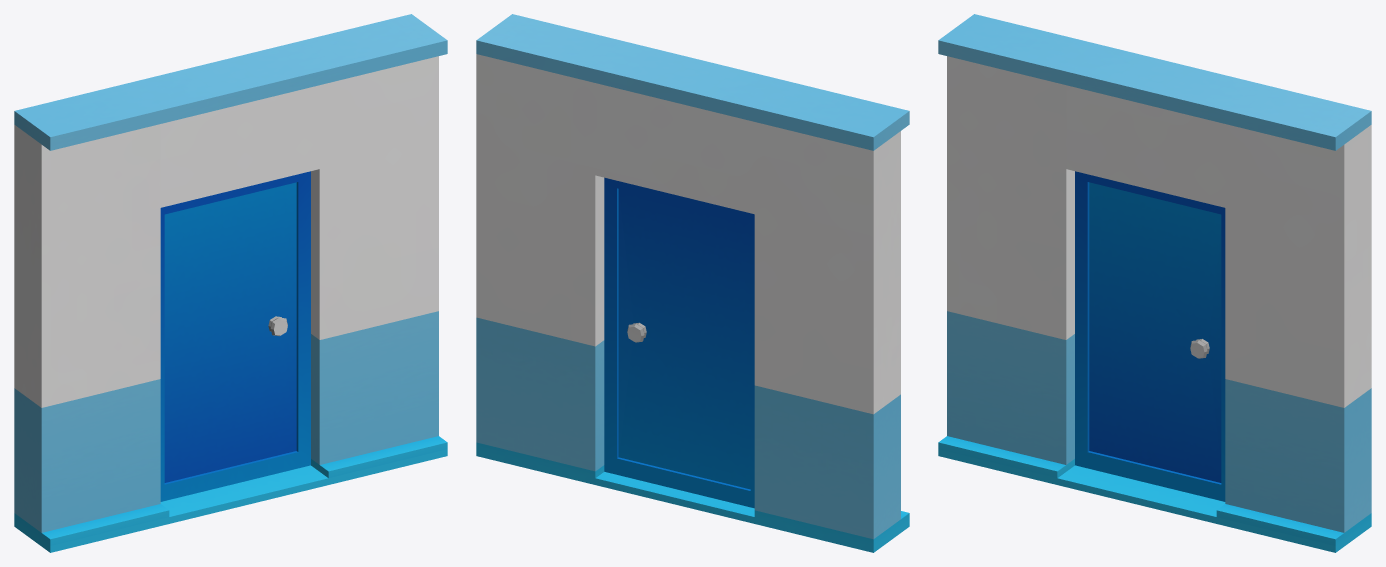
The model's file is wall_door.glb.
3 views of the same model, side by side, from view 1: azimuth 30°, elevation 25°; view 2: azimuth 150°, elevation 25°; view 3: azimuth 330°, elevation 25° (orthographic).
Parts seen in each view (by area): view 1: wall_door, door_1; view 2: wall_door, door_1; view 3: wall_door, door_1.
Part boxes in pixels (<box>): wall_door: <box>14,14,447,552</box>; door_1: <box>160,171,310,501</box>; wall_door: <box>476,14,909,552</box>; door_1: <box>604,177,754,508</box>; wall_door: <box>938,14,1371,552</box>; door_1: <box>1075,171,1225,501</box>.
Bounding box in the file's own units: 2 × 2 × 0.314.
1 material, 1 textured.
